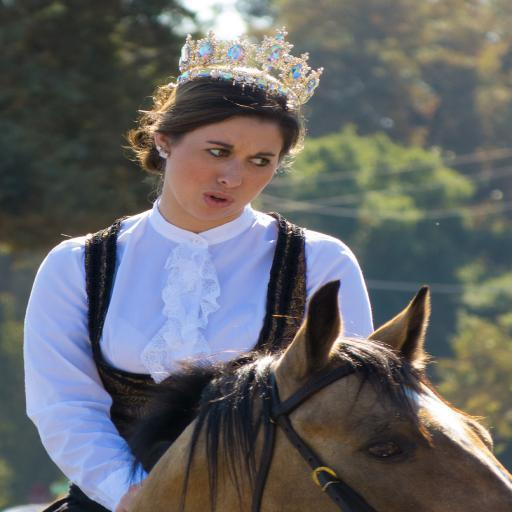horse: (3, 278, 512, 512)
